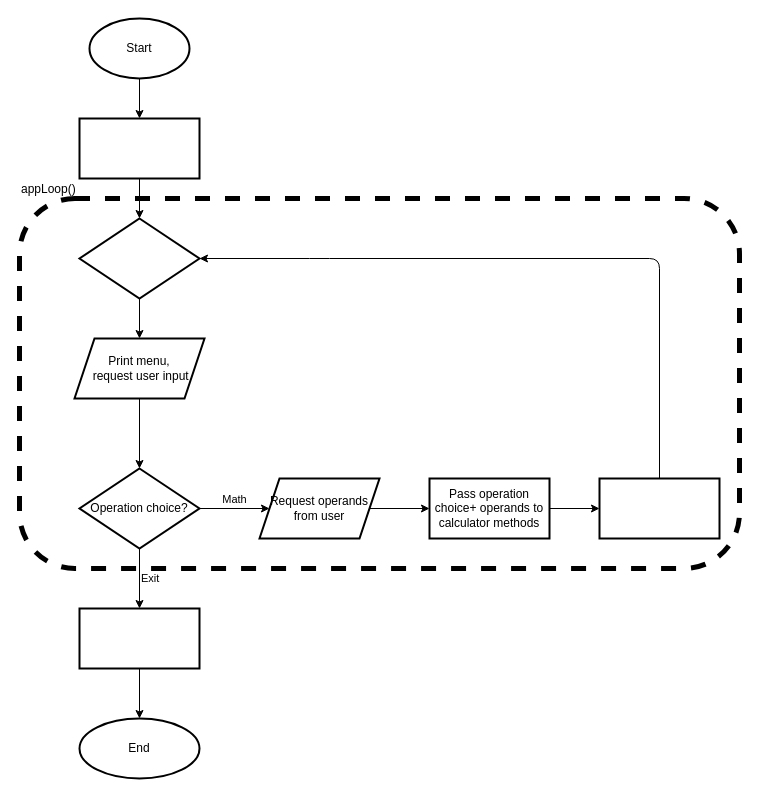
Some shapes in this 759 by 796 pixel diagram are drawn without their labels. The centre of each missing label's shape, as x and y in pixels:
Enter calculator loop: (139,148)
loop Entry: (139,258)
Print result: (659,508)
Print thank you: (139,638)
